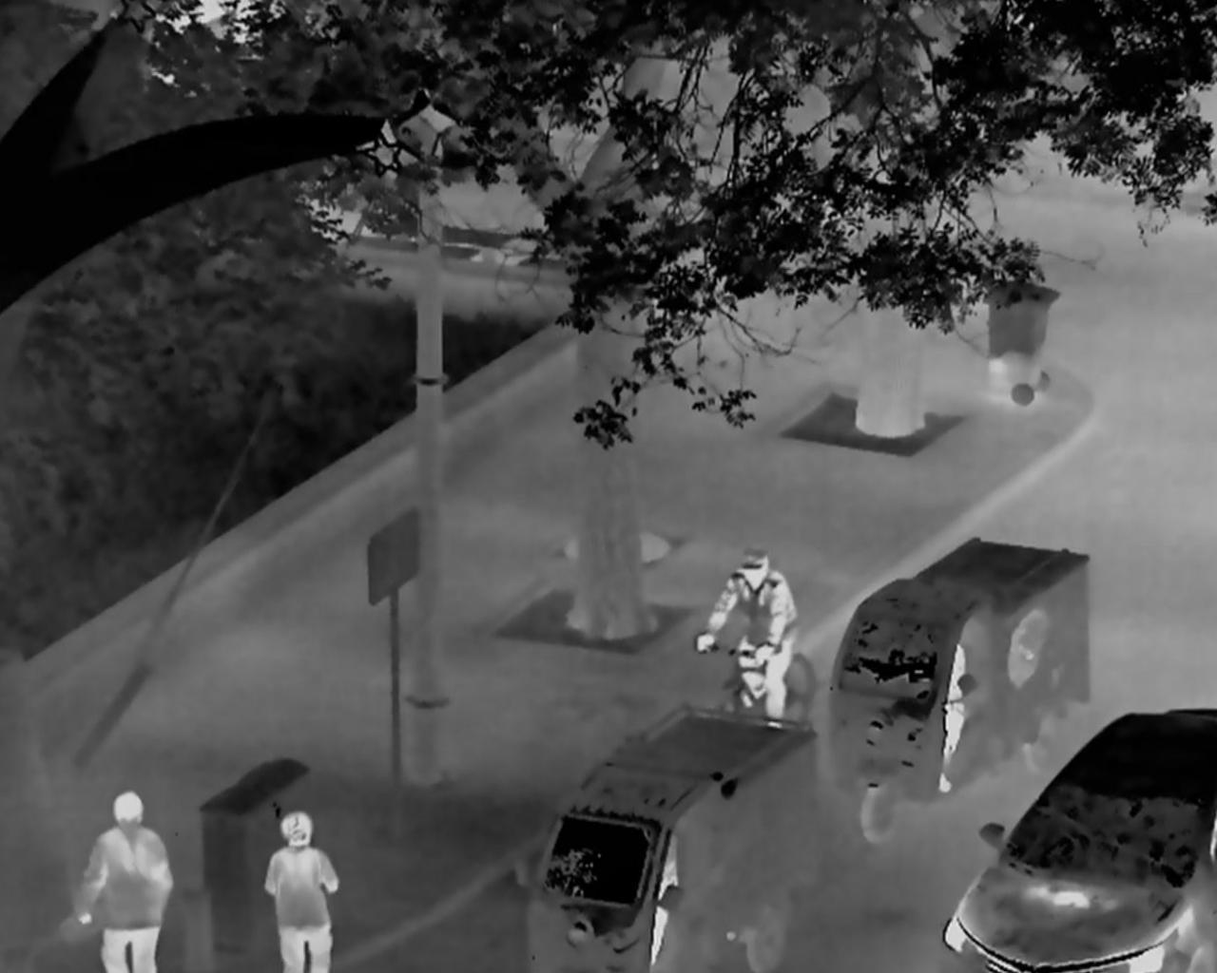person: (694, 545, 799, 730), (73, 791, 174, 973), (263, 809, 340, 973), (937, 642, 968, 794), (650, 831, 679, 966)
